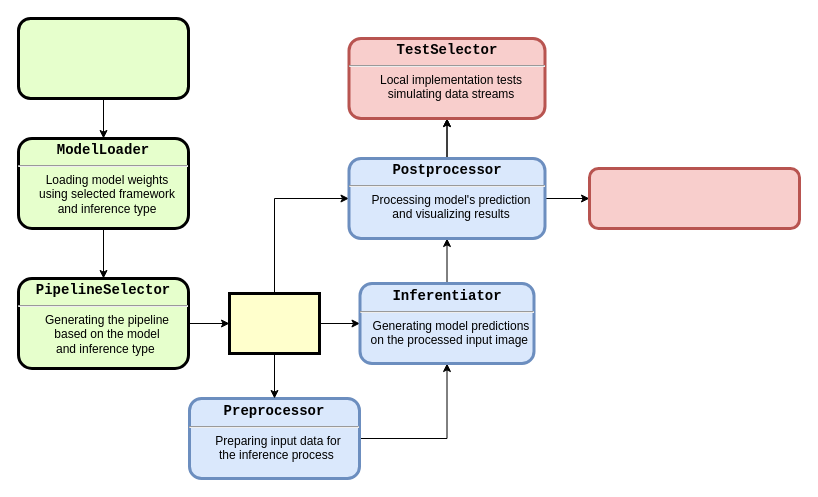
Some shapes in this 818 by 497 pixel diagram are drawn without their labels. The box of each missing label's shape, as (x1, y1, x2, y2) in pixels:
InferenceMetadata Model configuration and inference parameters: (16, 16, 190, 100)
Pipeline: (228, 292, 320, 354)
TrackedDetectionsList: (588, 166, 800, 230)
